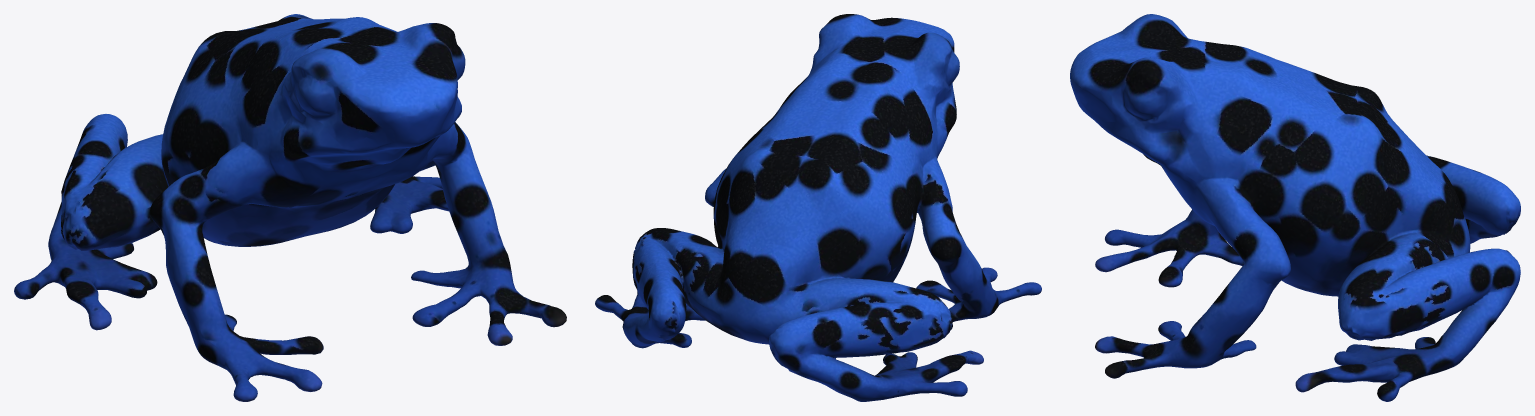
The model's file is dartfrog.glb.
3 views of the same model, side by side, from view 1: azimuth 30°, elevation 25°; view 2: azimuth 150°, elevation 25°; view 3: azimuth 270°, elevation 25° (orthographic). The views are drawn at different scales.
Parts seen in each view (by area): view 1: dartfrog; view 2: dartfrog; view 3: dartfrog.
Boxes of the visible parts, box(x1,y1,x2,y2) form: dartfrog: box(14, 14, 566, 401); dartfrog: box(595, 14, 1041, 401); dartfrog: box(1070, 14, 1520, 401).
Size of the model in its own units: 0.0432 by 0.028 by 0.0421.
Materials: 1 (1 with a texture image).
